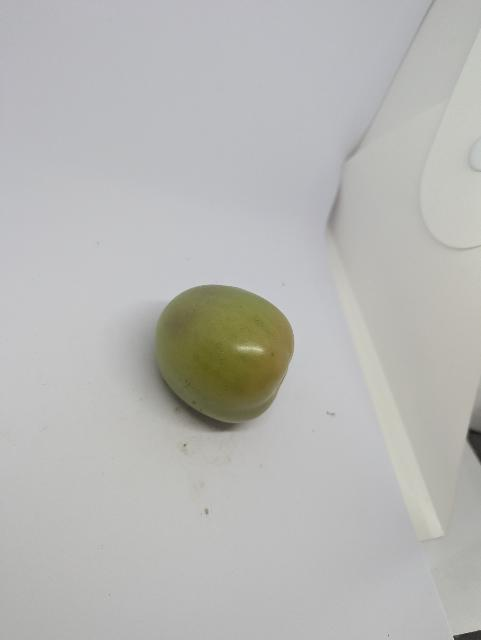green: (147, 265, 304, 435)
